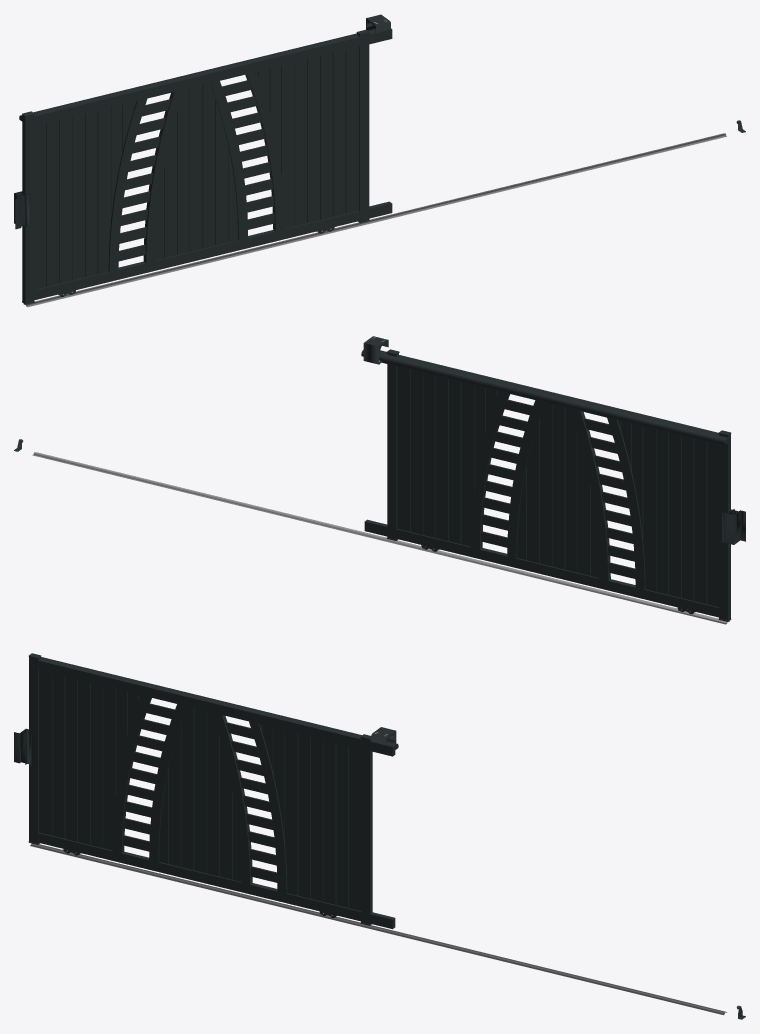
The picture shows the model from 3 angles, top to bottom: view 1: azimuth 30°, elevation 25°; view 2: azimuth 150°, elevation 25°; view 3: azimuth 330°, elevation 25°; orthographic projection.
Parts seen in each view (by area): view 1: Folha_1, seattle; view 2: Folha_1, seattle; view 3: Folha_1, seattle.
Boxes of the visible parts, bbox=[...] form: Folha_1: bbox=[19, 28, 392, 304]; seattle: bbox=[14, 14, 745, 307]; Folha_1: bbox=[361, 349, 731, 621]; seattle: bbox=[14, 336, 745, 624]; Folha_1: bbox=[28, 653, 398, 929]; seattle: bbox=[14, 727, 745, 1019].
Bounding box in the file's own units: 638 × 166 × 15.07.
Materials: 1 (1 with a texture image).
